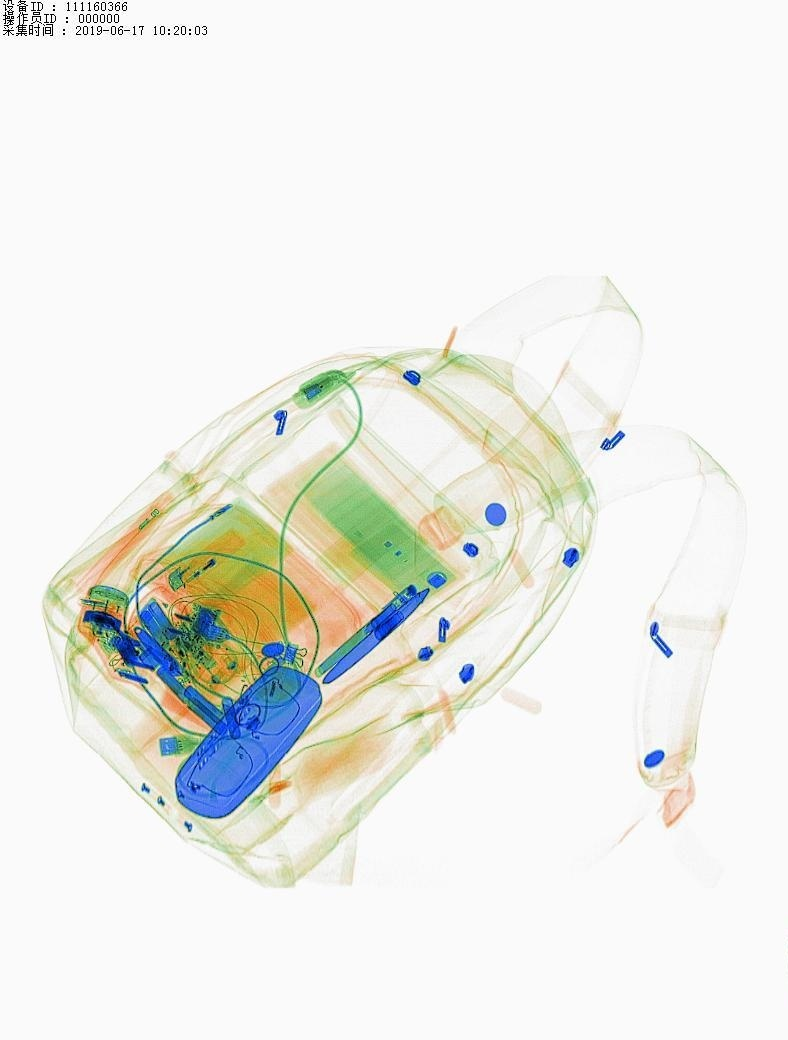NonmetallicFire: (146, 507, 293, 619)
